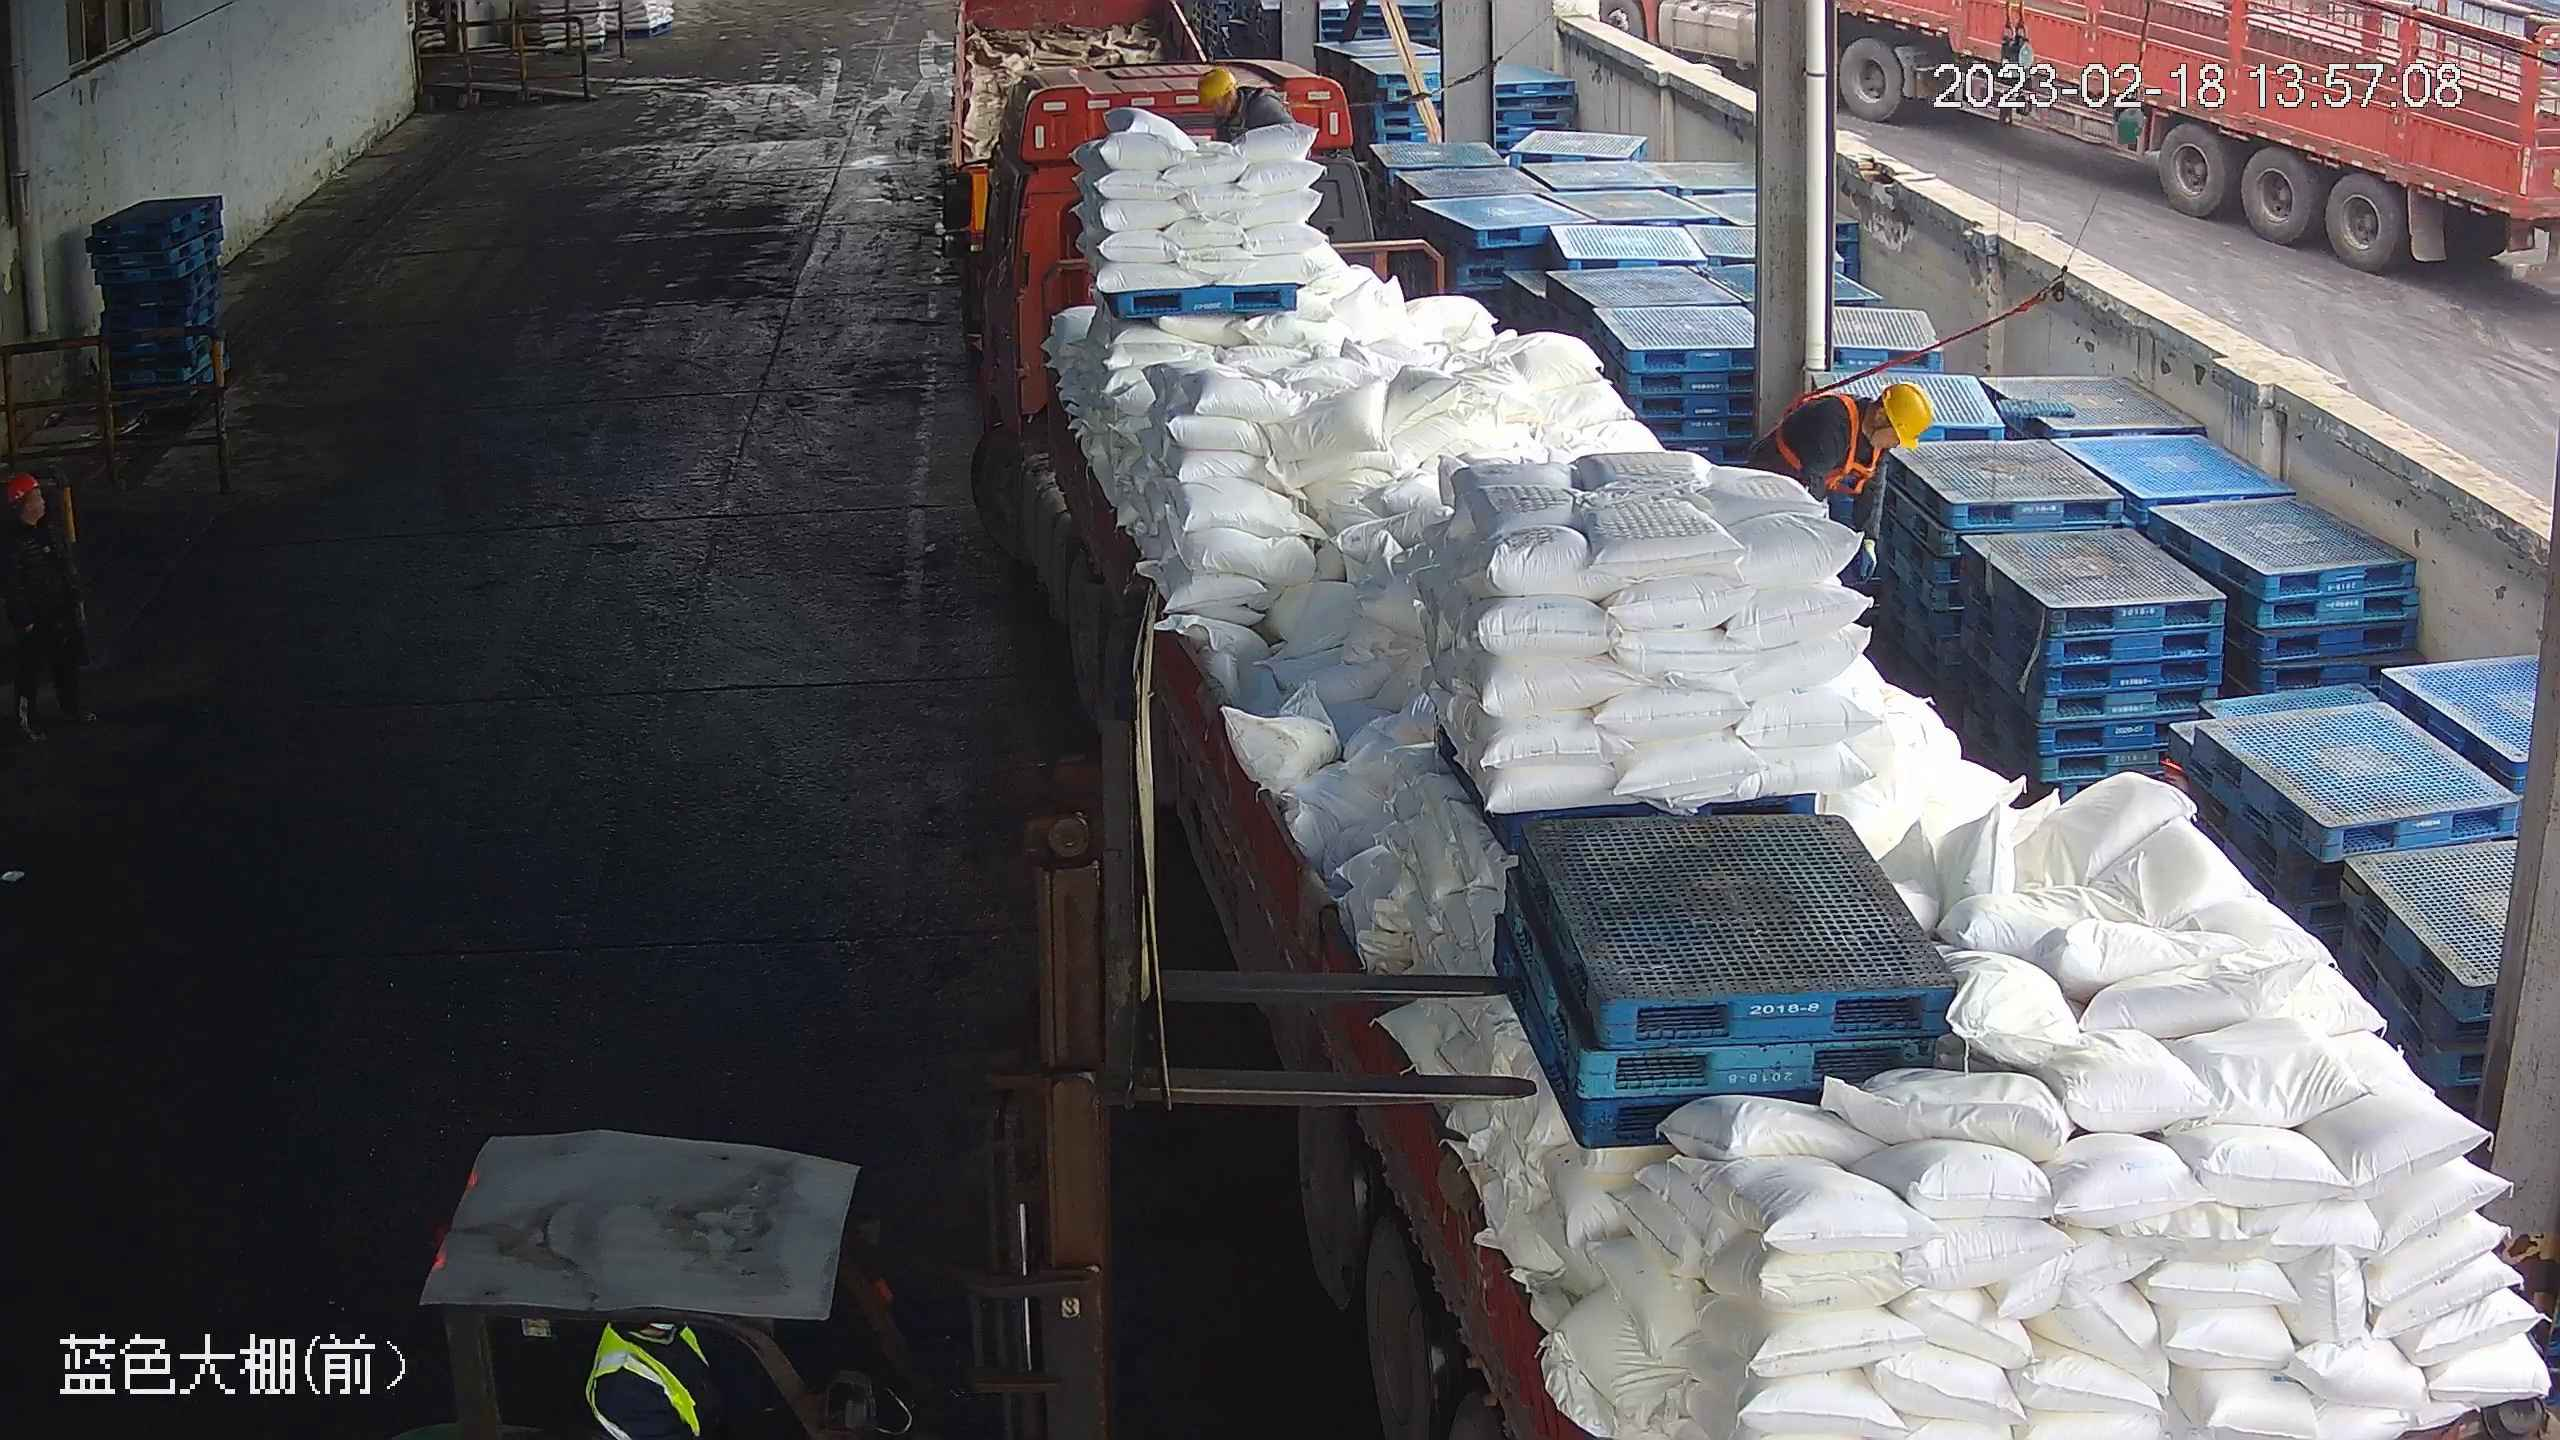belt: (1788, 379, 1882, 487), (1210, 80, 1264, 125)
head: (1806, 375, 1936, 473), (1, 473, 62, 573), (1194, 62, 1276, 127)
helmet: (1879, 377, 1939, 450), (1195, 64, 1235, 105), (4, 474, 33, 502)
people: (1740, 374, 1942, 586)
truck: (932, 64, 2558, 1440)
